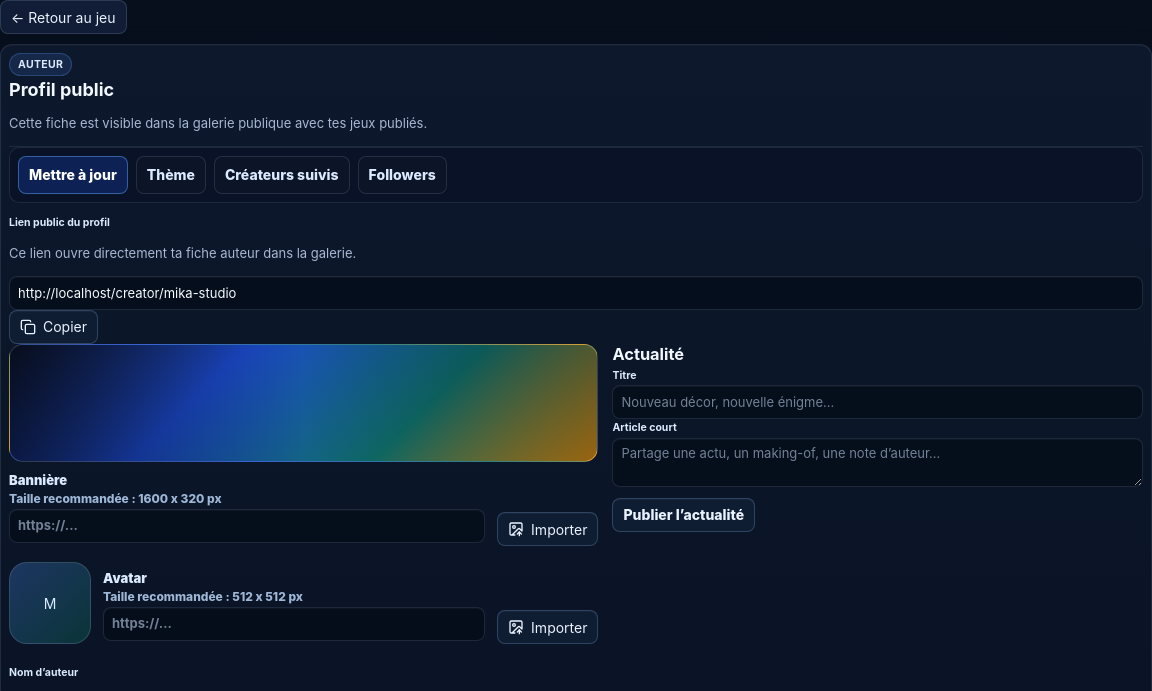
author profile media › copie le lien unique du profil auteur depuis mon profil auteur
This screenshot has width=1152, height=691.
What coordinates should you click on to do the following:
click the button "Copier"
I would click on:
 (54, 327)
Its box is [9,310,98,344].
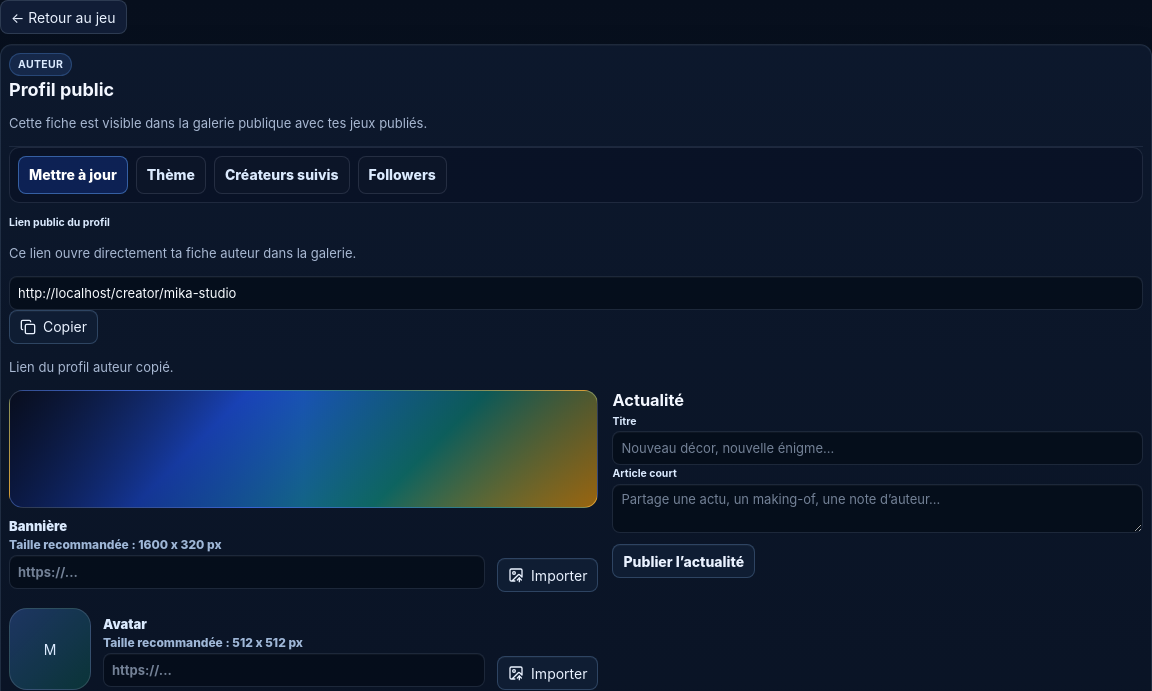
expect the text "Lien du profil auteur copié." is shown: met, box [9,359,174,375]
